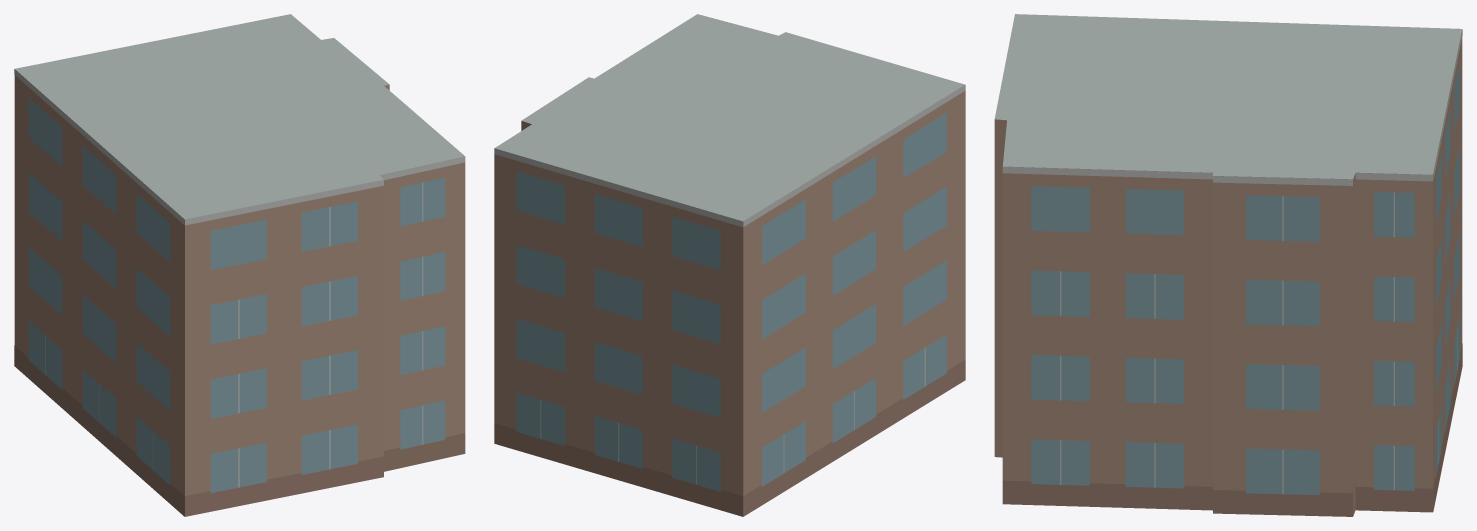
File: survey-upis-32643649.glb
3 views of the same model, side by side, from view 1: azimuth 30°, elevation 25°; view 2: azimuth 150°, elevation 25°; view 3: azimuth 270°, elevation 25° (orthographic). The views are drawn at different scales.
Parts seen in each view (by area): view 1: survey-upis-32643649.tmp; view 2: survey-upis-32643649.tmp; view 3: survey-upis-32643649.tmp.
Boxes of the visible parts, x1,y1,x2,y2 form: survey-upis-32643649.tmp: [14, 14, 465, 516]; survey-upis-32643649.tmp: [494, 14, 965, 516]; survey-upis-32643649.tmp: [994, 14, 1462, 516].
Bounding box in the file's own units: 12.81 × 12.2 × 15.33.
